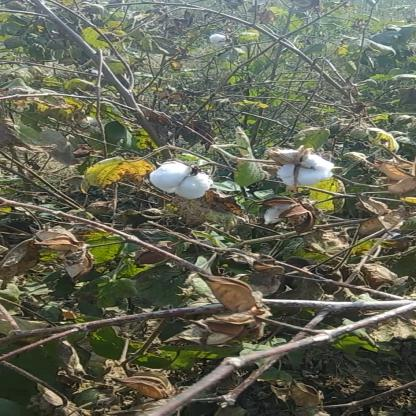cotton_ready: (122, 152, 237, 211), (248, 144, 338, 198)
